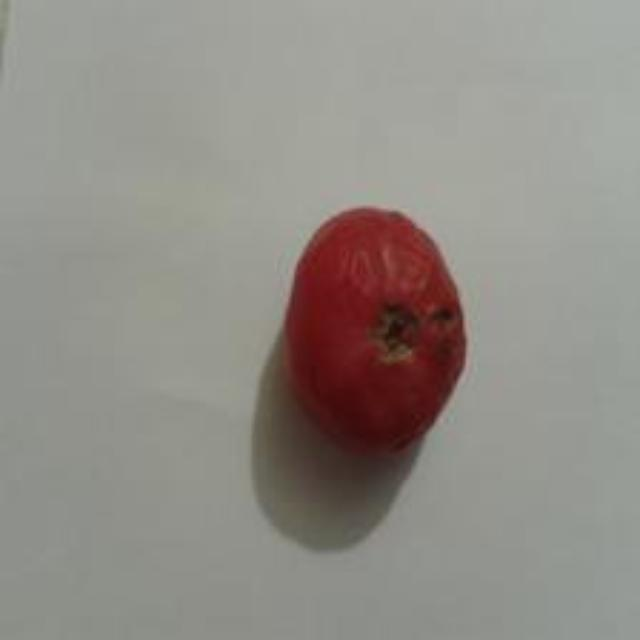defect: (279, 202, 470, 449)
